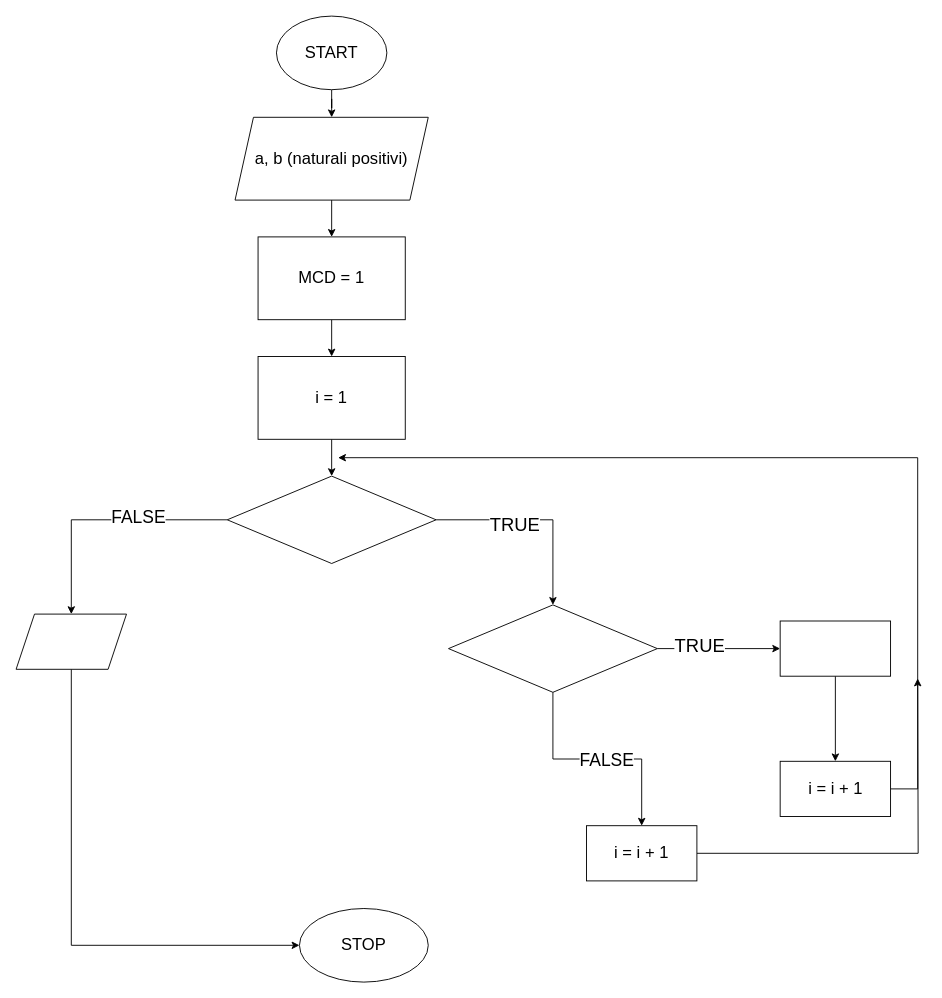
This 942x998 diagram has some shape labels left out. The centre of each missing label's shape, as x and y in pixels:
"i <= min(a, b)" goes at [331,519].
"i divide sia a che b?" goes at [552,648].
"MCD = i" goes at [835,648].
"return MCD" goes at [70,641].
